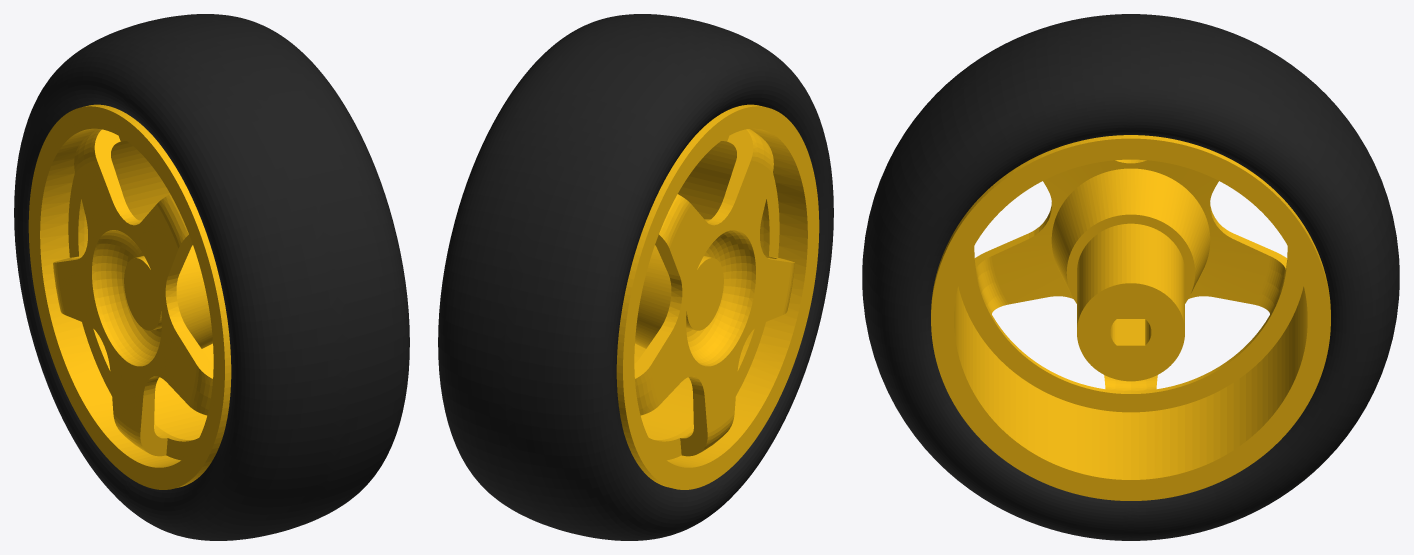
File: turtle_pi_wheel.dae
3 renders of one model, left to right at view 1: azimuth 30°, elevation 25°; view 2: azimuth 150°, elevation 25°; view 3: azimuth 270°, elevation 25°, orthographic.
Visible parts, largest first — view 1: Tyre, Wheel; view 2: Tyre, Wheel; view 3: Tyre, Wheel.
Boxes of the visible parts, bbox=[...] form: Tyre: bbox=[14, 14, 409, 540]; Wheel: bbox=[28, 104, 231, 489]; Tyre: bbox=[438, 14, 833, 540]; Wheel: bbox=[616, 104, 819, 489]; Tyre: bbox=[862, 14, 1399, 540]; Wheel: bbox=[931, 135, 1330, 500].
Bounding box in the file's own units: 0.0297 × 0.0695 × 0.0695.
